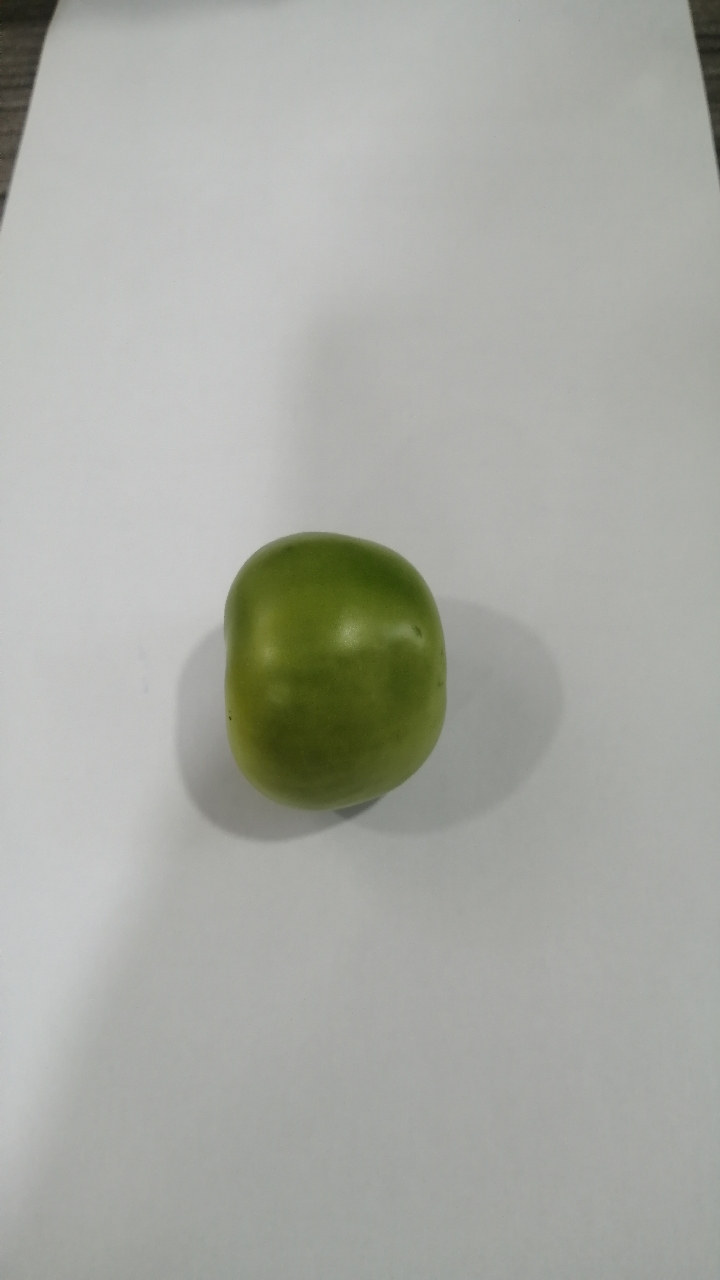tomateVerde: (200, 509, 468, 843)
